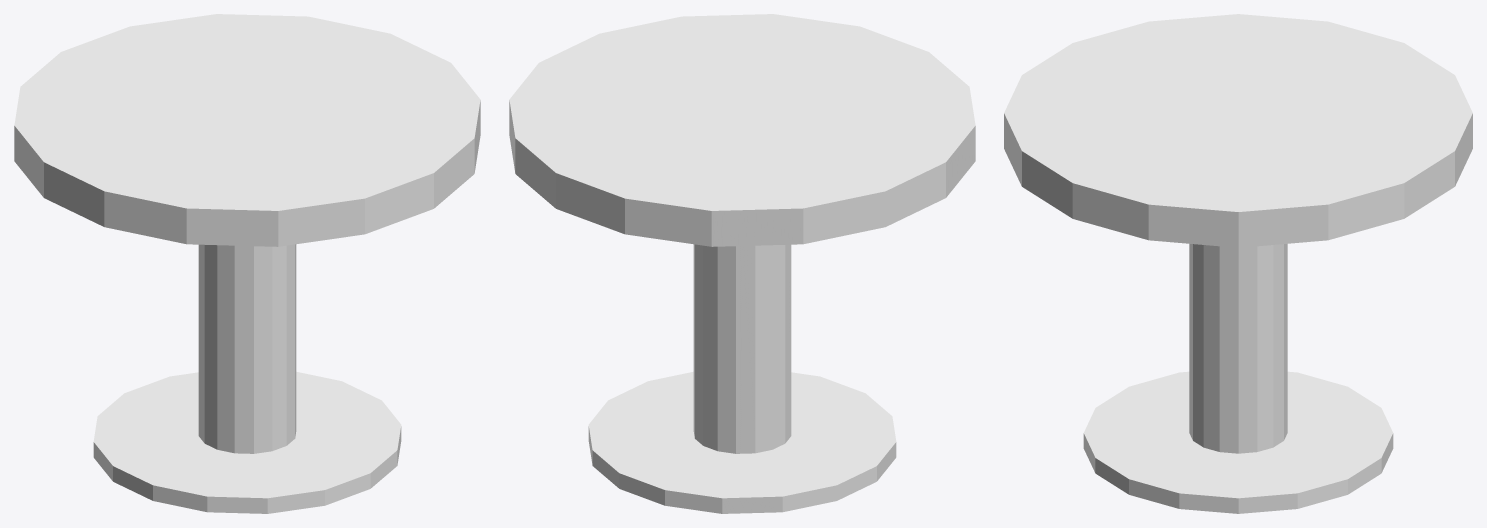
The model's file is Prop_Table_05.fbx.
3 renders of one model, left to right at view 1: azimuth 30°, elevation 25°; view 2: azimuth 150°, elevation 25°; view 3: azimuth 270°, elevation 25°, orthographic.
Visible parts, largest first — view 1: Prop_Table_05; view 2: Prop_Table_05; view 3: Prop_Table_05.
Boxes of the visible parts, x1,y1,x2,y2 form: Prop_Table_05: (14,14,480,513); Prop_Table_05: (509,14,975,513); Prop_Table_05: (1004,14,1472,513).
Bounding box in the file's own units: 95 × 75 × 95.
